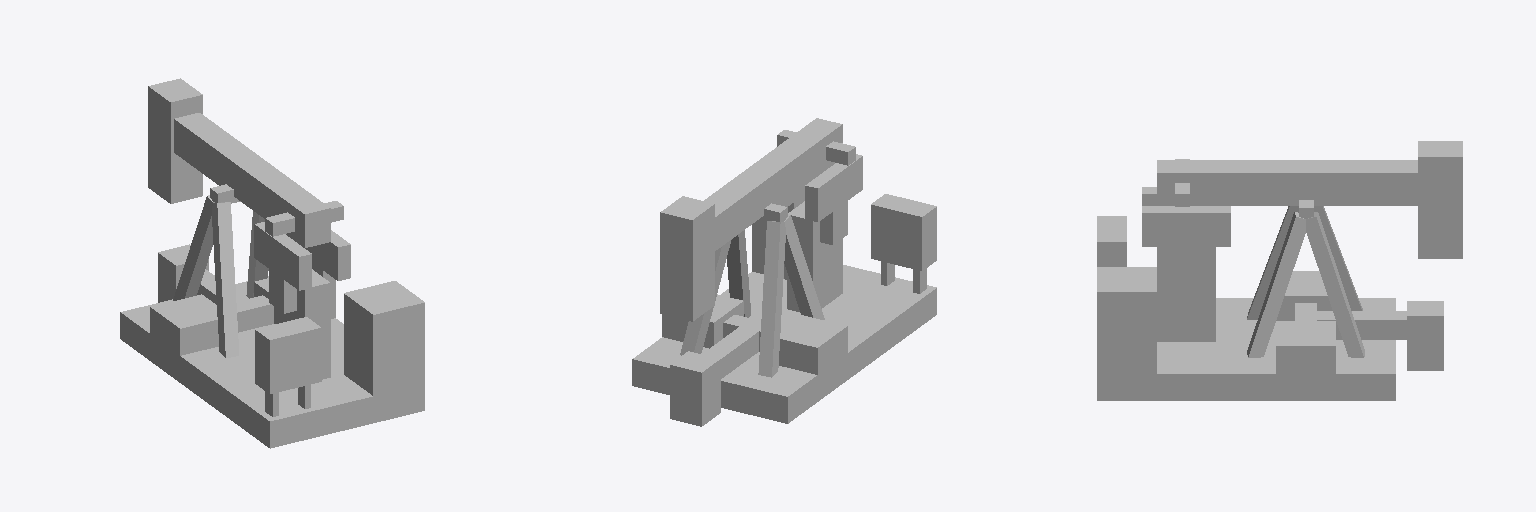
File: pumpjack_itemmockup.obj
3 renders of one model, left to right at view 1: azimuth 30°, elevation 25°; view 2: azimuth 150°, elevation 25°; view 3: azimuth 270°, elevation 25°, orthographic.
Parts seen in each view (by area): view 1: pumpjack_itemmockup, Dummy-PumpArmature; view 2: pumpjack_itemmockup, Dummy-PumpArmature; view 3: pumpjack_itemmockup, Dummy-PumpArmature.
Boxes of the visible parts, x1,y1,x2,y2 form: pumpjack_itemmockup: [120, 184, 424, 448]; Dummy-PumpArmature: [148, 78, 350, 313]; pumpjack_itemmockup: [632, 194, 936, 426]; Dummy-PumpArmature: [660, 118, 862, 321]; pumpjack_itemmockup: [1097, 200, 1443, 400]; Dummy-PumpArmature: [1142, 141, 1462, 279].
Bounding box in the file's own units: 3 × 3.94 × 6.12.